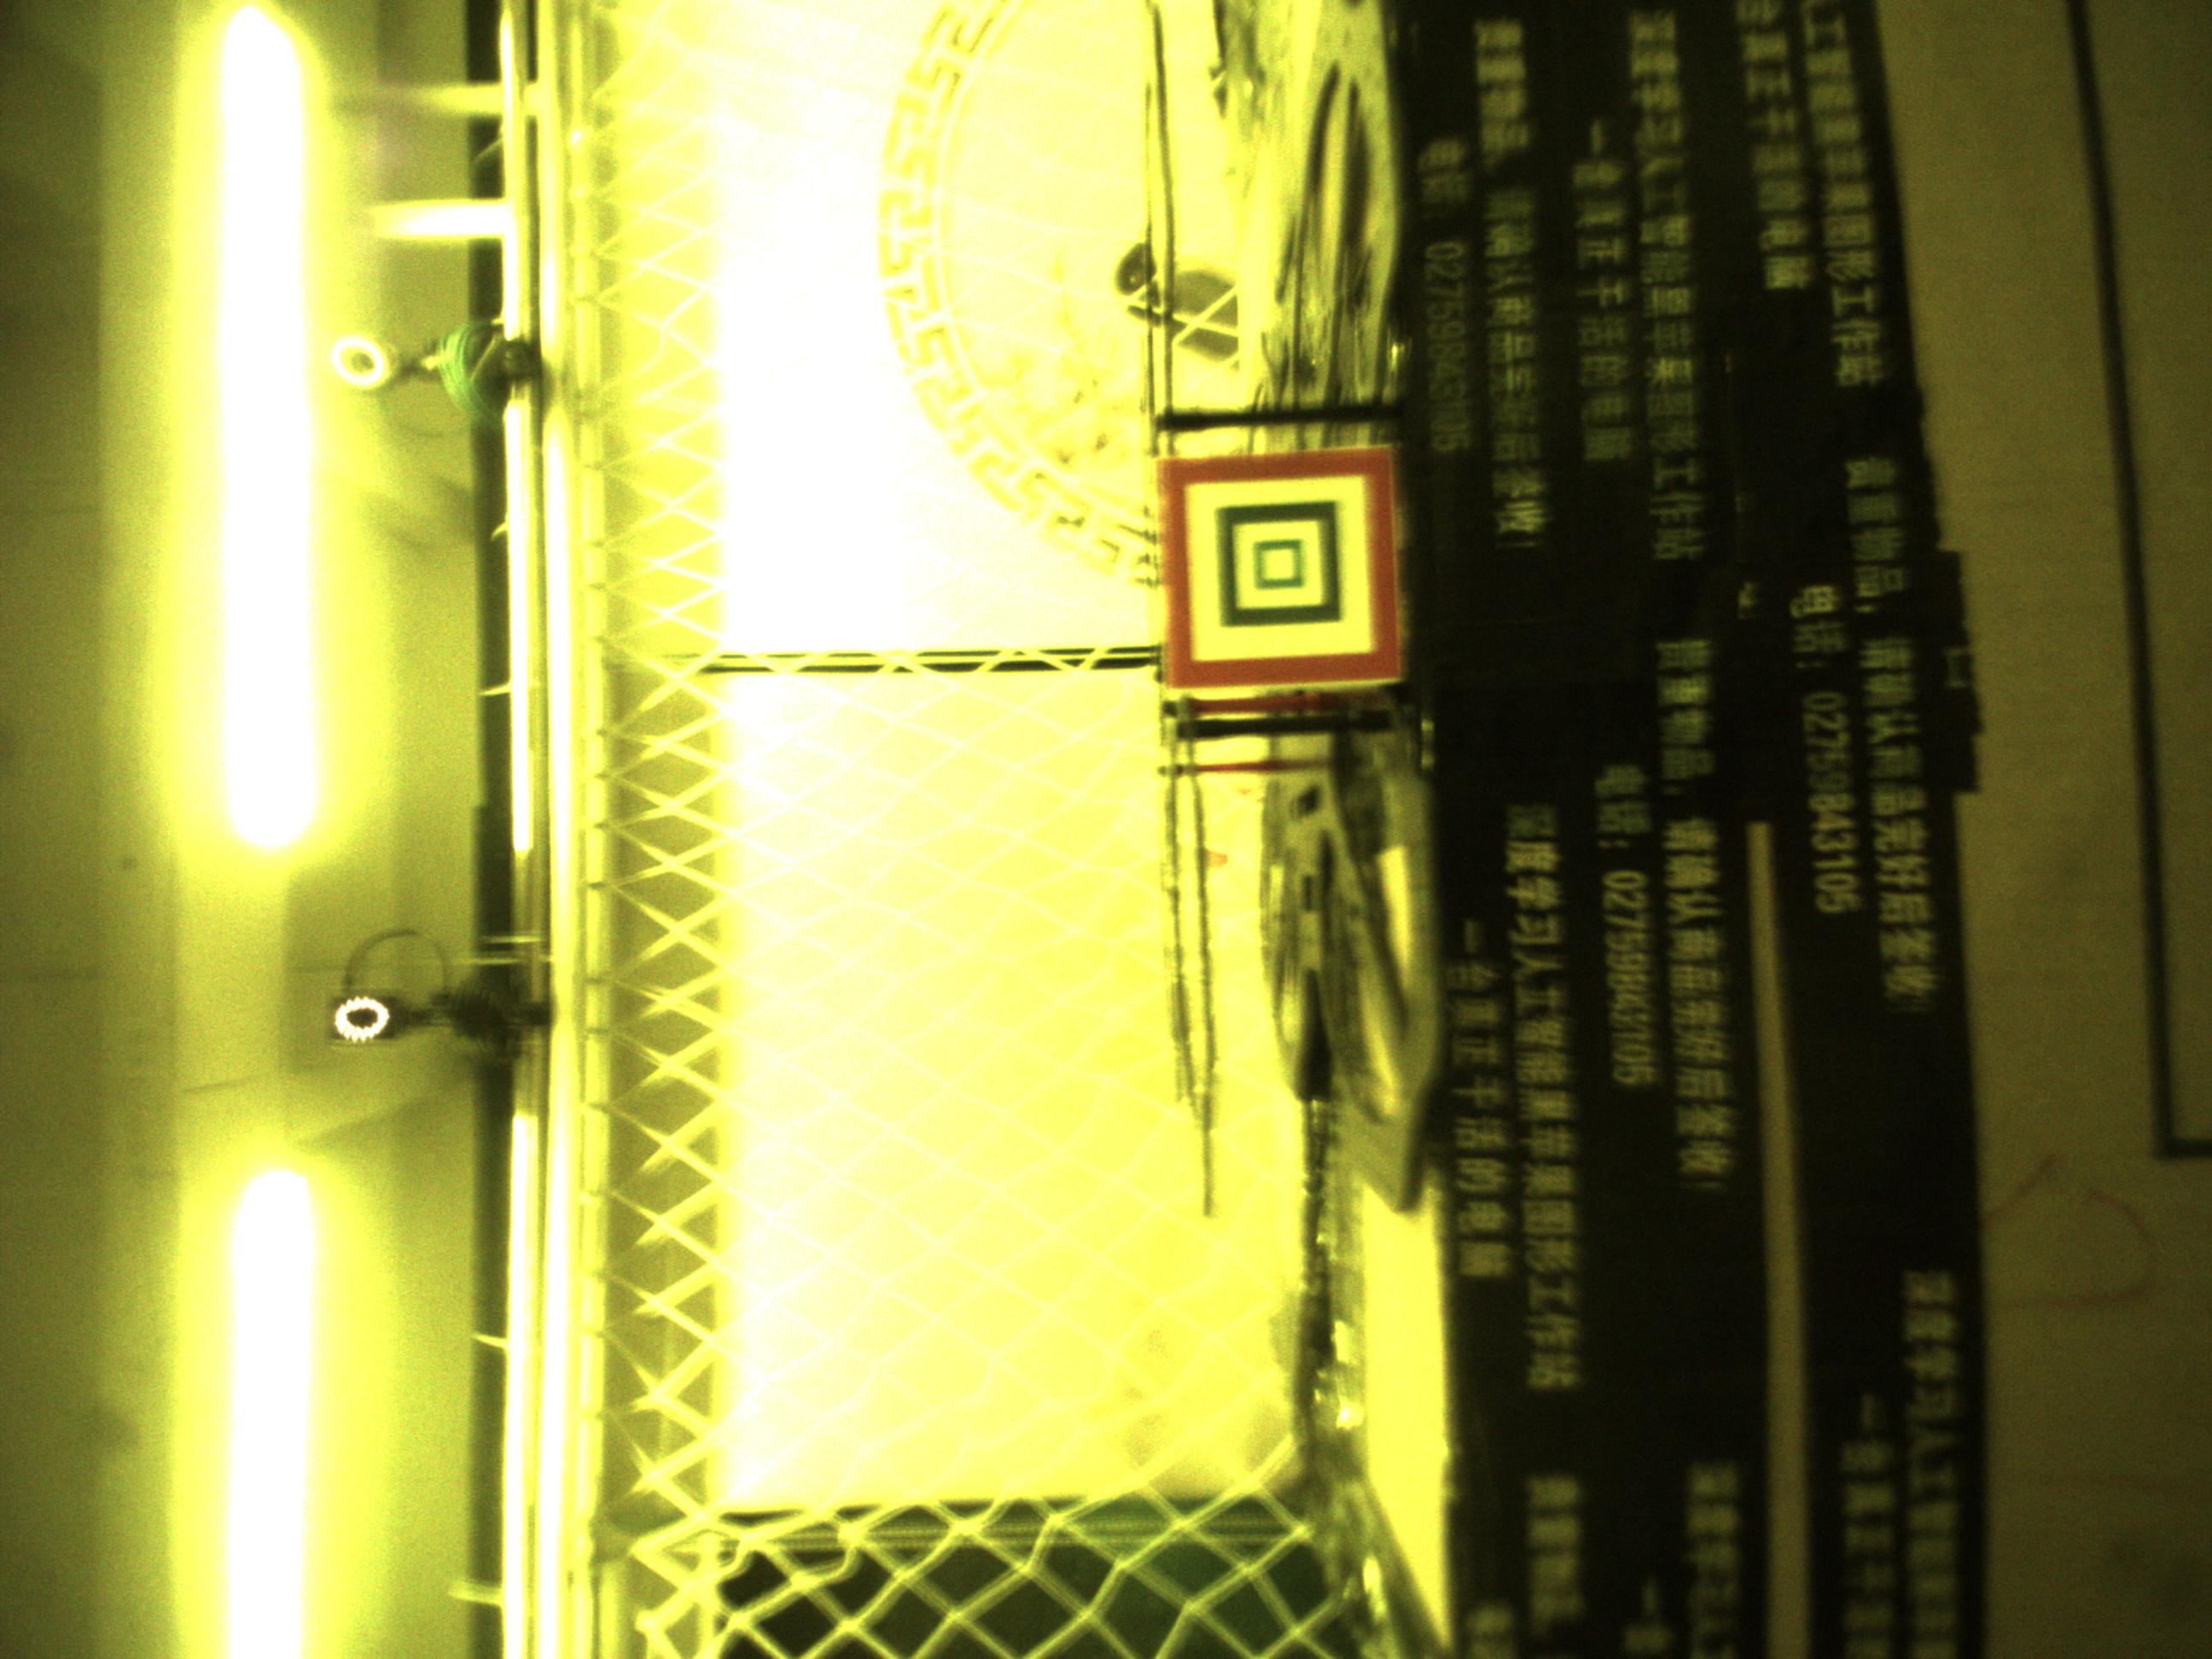outline: (1151, 451, 1400, 681)
